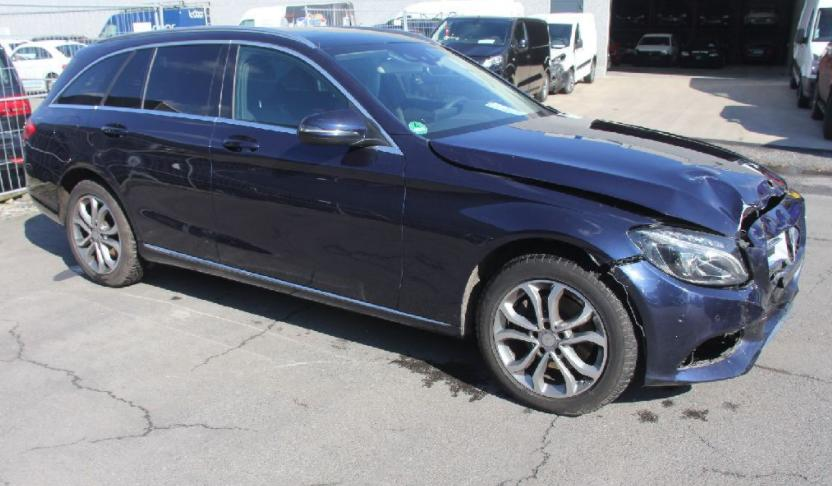Back-door: (88, 42, 230, 262)
Back-wheel: (66, 179, 148, 285)
Back-window: (146, 48, 219, 116), (54, 53, 130, 106), (106, 52, 153, 105)
Fender: (385, 135, 651, 325)
Front-bumper: (610, 187, 808, 386)
Front-door: (211, 40, 405, 311)
Front-wheel: (476, 254, 638, 415)
Front-window: (236, 45, 346, 129)
Headlight: (630, 226, 747, 284)
Hood: (430, 112, 788, 236)
License-plate: (766, 229, 793, 273)
Mirror: (297, 109, 389, 148)
Quarter-panel: (25, 106, 144, 243)
Rocker-panel: (137, 243, 462, 337)
Roof: (79, 27, 433, 53)
Tail-light: (23, 120, 35, 139)
Windshield: (323, 43, 553, 139)
